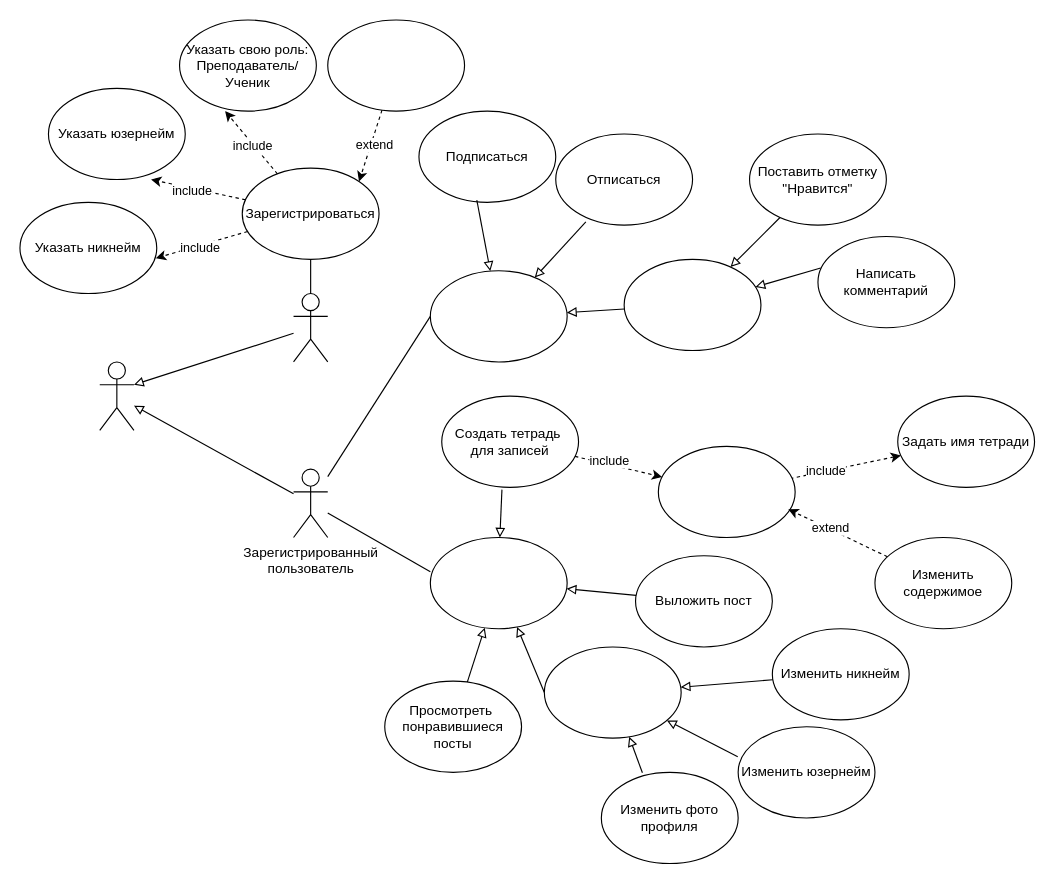
Image size: 1055x884. Some labels were removed from this diagram. Here are the shapes that lost their labels. From the top down, the centre of each, then its label:
At point (396, 65): "Установить фото профиля".
At point (498, 316): "Взаимодействие с другими пользователями".
At point (692, 304): "Взаимодействие с постами других пользователей".
At point (310, 327): "Незарегистрированный пользователь".
At point (116, 395): "Пользователь".
At point (726, 491): "Редактировать тетрадь".
At point (498, 582): "Управление учетной записью".
At point (612, 692): "Редактировать учетную запись".
